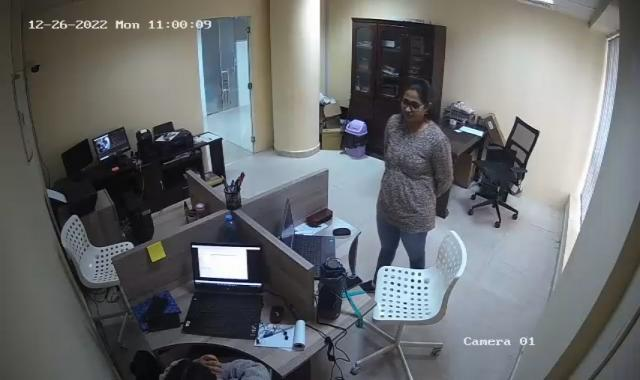no_hairnet: (396, 88, 430, 123)
